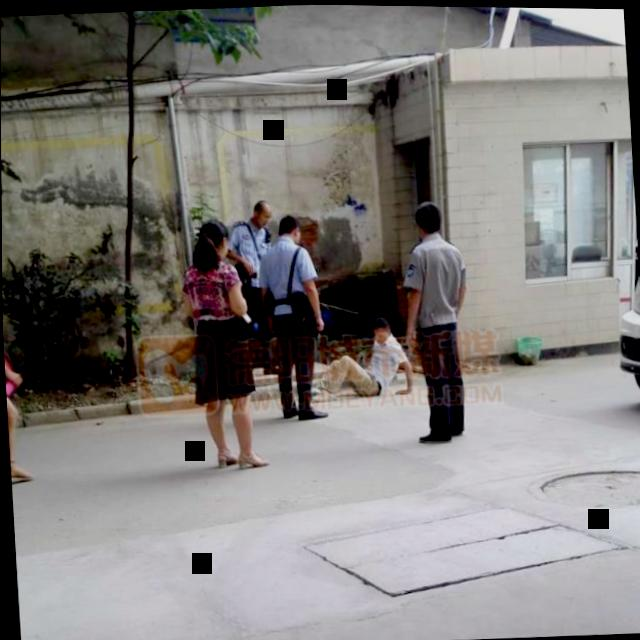Fall-Detected: (305, 306, 420, 409)
